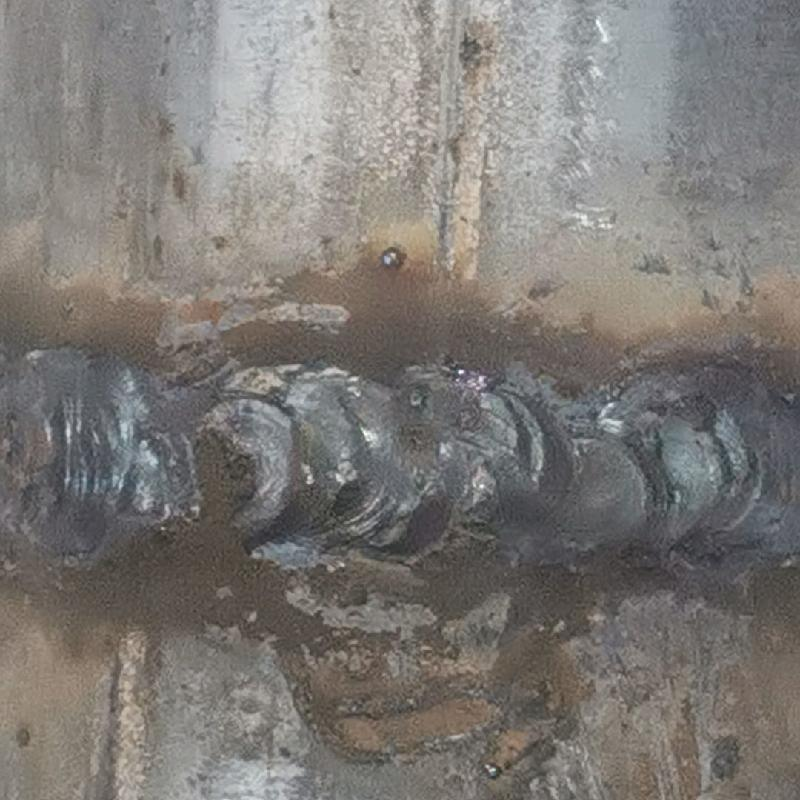good: (1, 340, 799, 572)
